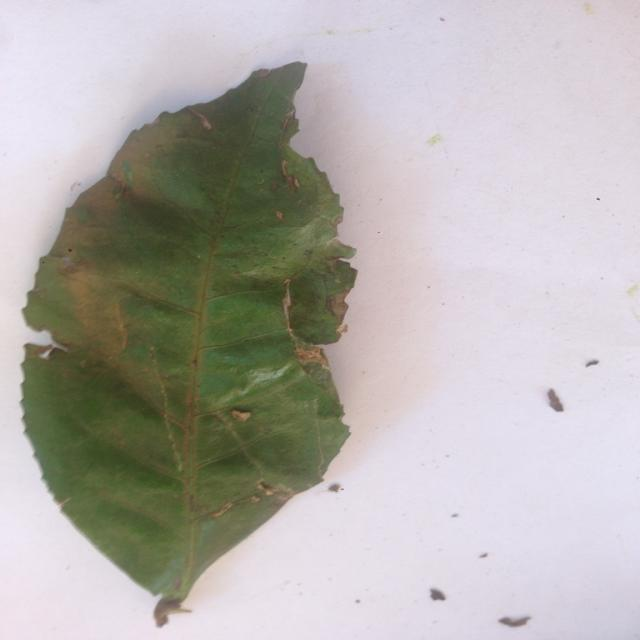Brown Blight: (12, 59, 369, 625)
